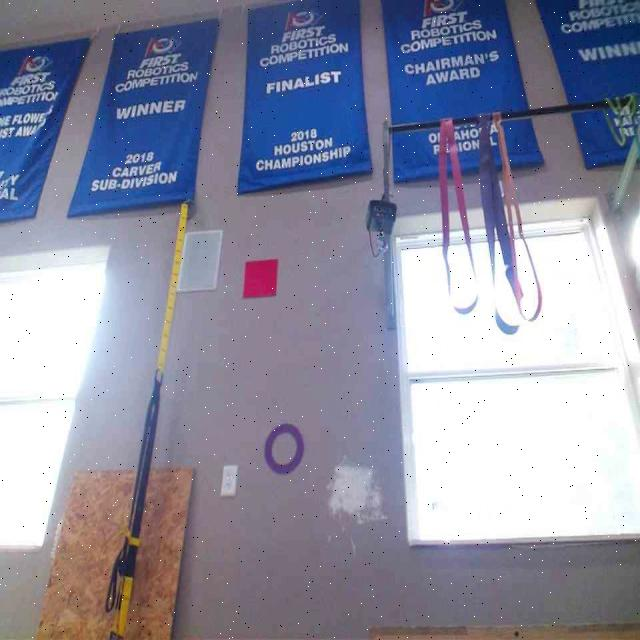ring_purple: (262, 420, 304, 473)
square_red: (242, 256, 278, 298)
